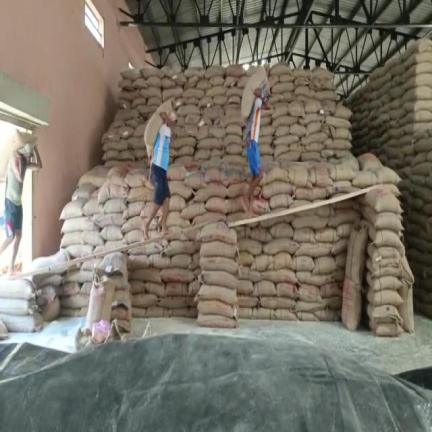Zone-Counting: (144, 100, 176, 237), (241, 68, 269, 211)
